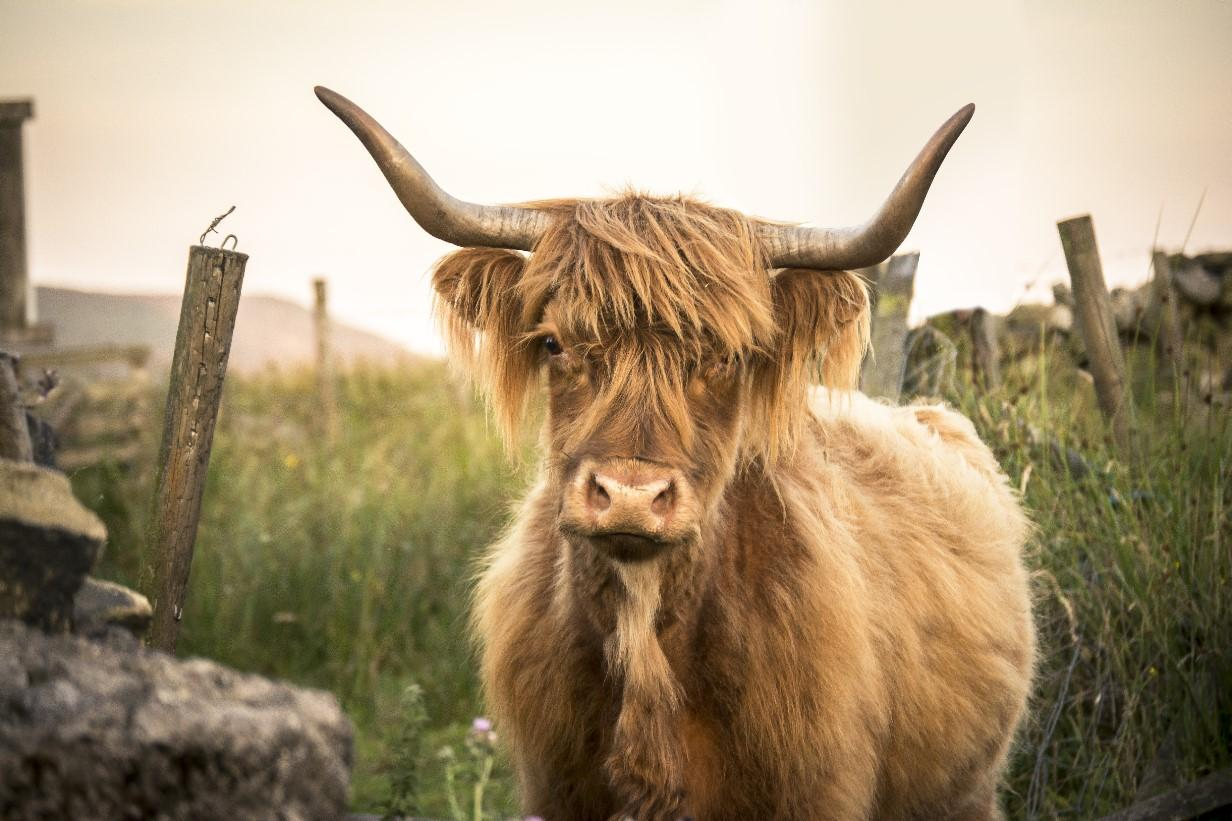muzzles: (546, 445, 713, 565)
